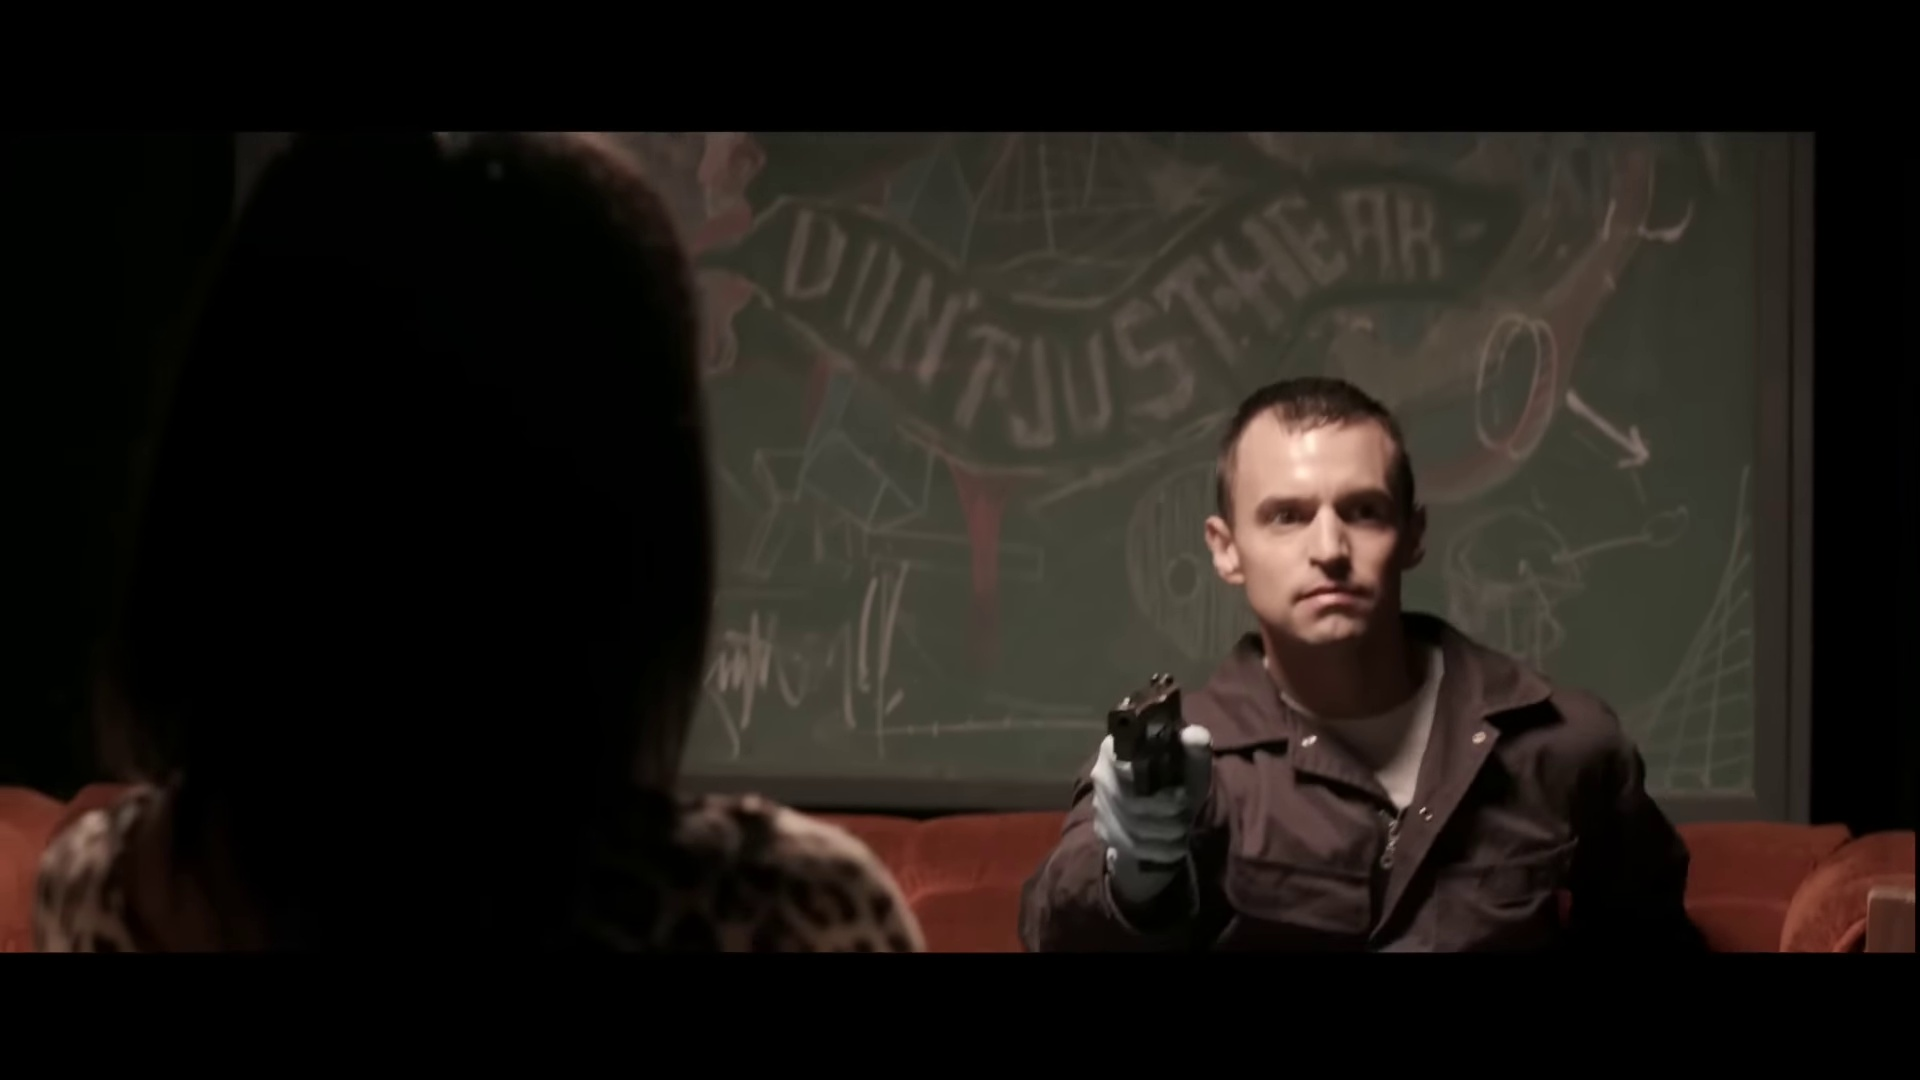gun: (1101, 665, 1197, 814)
p_w_gun: (1013, 375, 1698, 947)
p_wo_gun_not_carrying_normal_pose: (0, 131, 916, 960)
